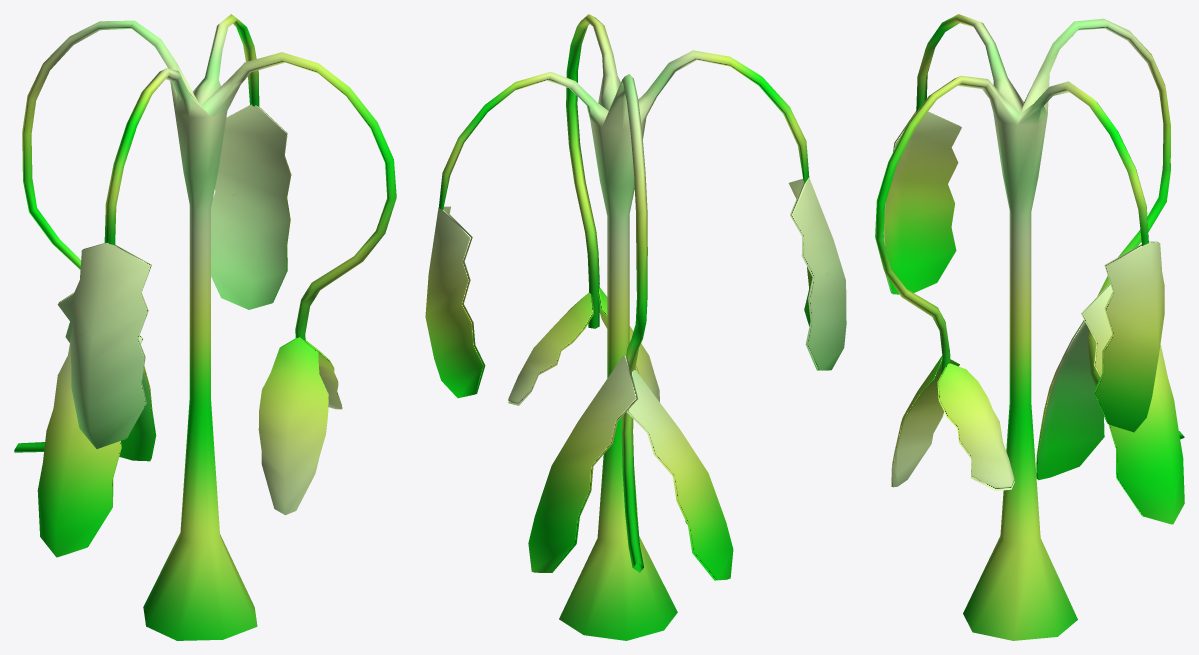
File: Fruit_Tree2.fbx
3 renders of one model, left to right at view 1: azimuth 30°, elevation 25°; view 2: azimuth 150°, elevation 25°; view 3: azimuth 270°, elevation 25°, orthographic. The views are drawn at different scales.
Visible parts, largest first — view 1: TreeShort3; view 2: TreeShort3; view 3: TreeShort3.
Part boxes in pixels (bbox=[...]): TreeShort3: bbox=[14, 14, 396, 640]; TreeShort3: bbox=[425, 14, 846, 640]; TreeShort3: bbox=[875, 14, 1184, 640].
Size of the model in its own units: 0.6513 by 1.18 by 0.5769.
